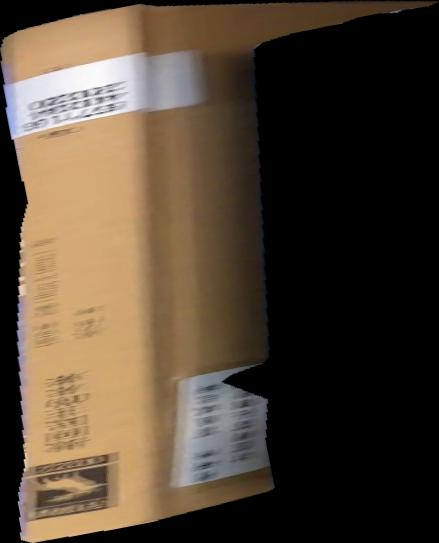reverse: (1, 1, 439, 543)
